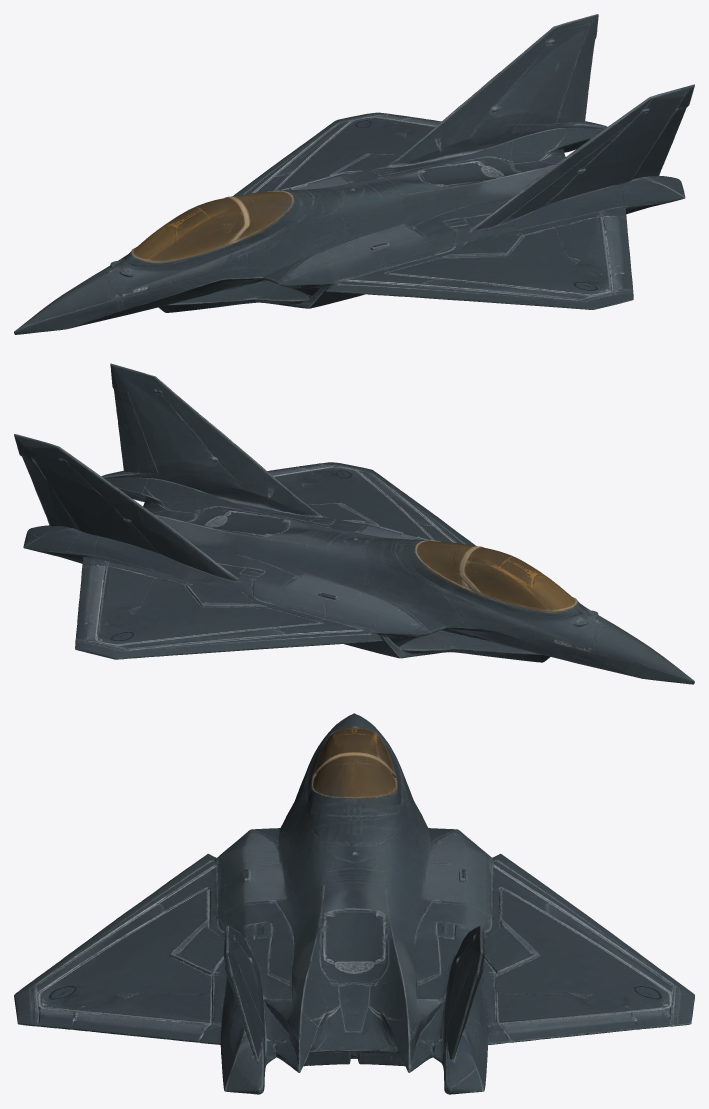
3 views of the same model, one above another, from view 1: azimuth 30°, elevation 25°; view 2: azimuth 150°, elevation 25°; view 3: azimuth 270°, elevation 25° (orthographic). The views are drawn at different scales.
Size of the model in its own units: 1.9 by 0.4233 by 1.34.
Materials: 1 (1 with a texture image).
